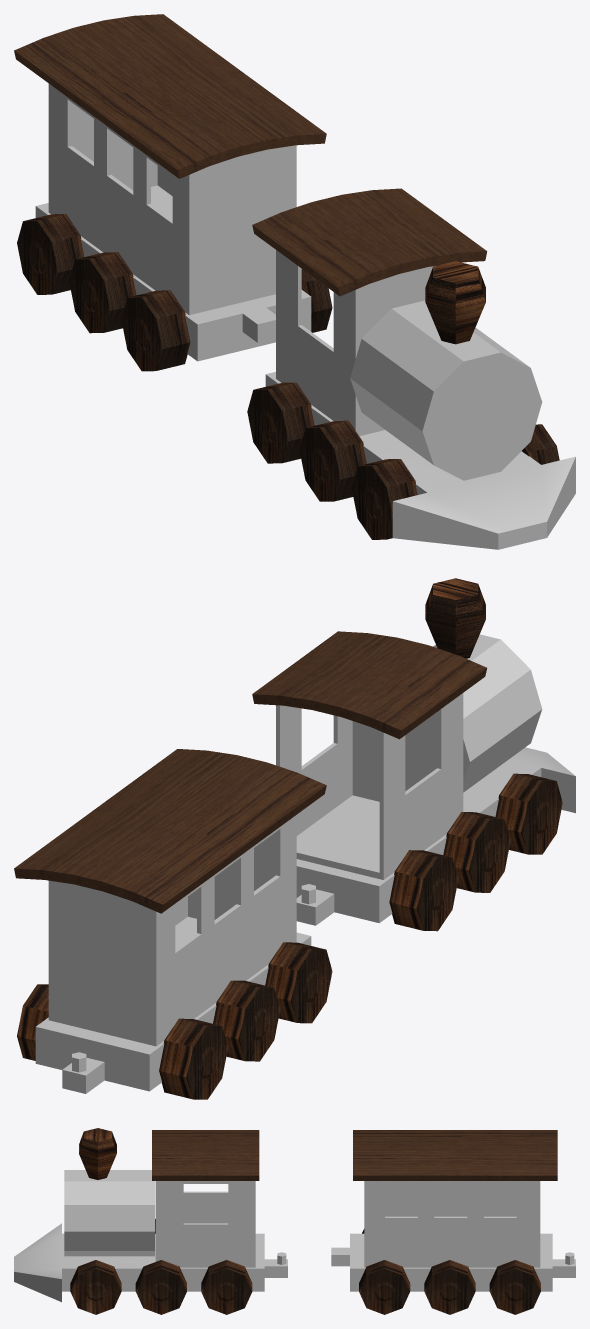
The model's file is train_textured_multipleWoods_ver1.fbx.
3 renders of one model, top to bottom at view 1: azimuth 30°, elevation 25°; view 2: azimuth 150°, elevation 25°; view 3: azimuth 270°, elevation 25°, orthographic. The views are drawn at different scales.
Visible parts, largest first — view 1: pCube10, pCube11, pCylinder7, pCube5, pCylinder10, pCube4, pCylinder11, pCylinder15, pCylinder6, pCylinder5, pCylinder17, pCylinder16 (+4 smaller); view 2: pCube10, pCube11, pCube4, pCube5, pCylinder10, pCylinder7, pCylinder11, pCylinder6, pCylinder17, pCylinder16, pCylinder15, pCylinder5 (+3 smaller); view 3: pCube10, pCube11, pCube4, pCylinder7, pCylinder10, pCube5, pCylinder11, pCylinder1, pCylinder13, pCylinder2, pCylinder12, pCylinder14 (+2 smaller).
Part boxes in pixels (x1,y1,x2,y2): pCube10: [48, 83, 296, 315]; pCube11: [14, 14, 326, 178]; pCylinder7: [350, 300, 542, 480]; pCube5: [252, 188, 487, 296]; pCylinder10: [265, 372, 575, 549]; pCube4: [276, 250, 463, 436]; pCylinder11: [35, 203, 311, 361]; pCylinder15: [121, 290, 190, 371]; pCylinder6: [247, 382, 314, 463]; pCylinder5: [299, 420, 366, 501]; pCylinder17: [17, 214, 83, 294]; pCylinder16: [69, 252, 136, 333]; pCube10: [48, 815, 296, 1046]; pCube11: [14, 749, 326, 913]; pCube4: [276, 693, 463, 879]; pCube5: [252, 631, 486, 739]; pCylinder10: [296, 747, 575, 925]; pCylinder7: [433, 634, 542, 792]; pCylinder11: [35, 932, 311, 1093]; pCylinder6: [389, 850, 458, 931]; pCylinder17: [159, 1018, 227, 1099]; pCylinder16: [213, 980, 280, 1061]; pCylinder15: [265, 942, 332, 1023]; pCylinder5: [443, 812, 510, 892]; pCube10: [364, 1181, 540, 1267]; pCube11: [353, 1130, 557, 1180]; pCube4: [155, 1181, 255, 1267]; pCylinder7: [64, 1170, 154, 1256]; pCylinder10: [14, 1223, 287, 1302]; pCube5: [152, 1130, 259, 1180]; pCylinder11: [331, 1233, 575, 1291]; pCylinder1: [70, 1260, 121, 1314]; pCylinder13: [424, 1260, 475, 1314]; pCylinder2: [135, 1260, 186, 1314]; pCylinder12: [359, 1260, 410, 1314]; pCylinder14: [489, 1260, 540, 1314].
Size of the model in its own units: 5.18 by 6.64 by 21.97.
